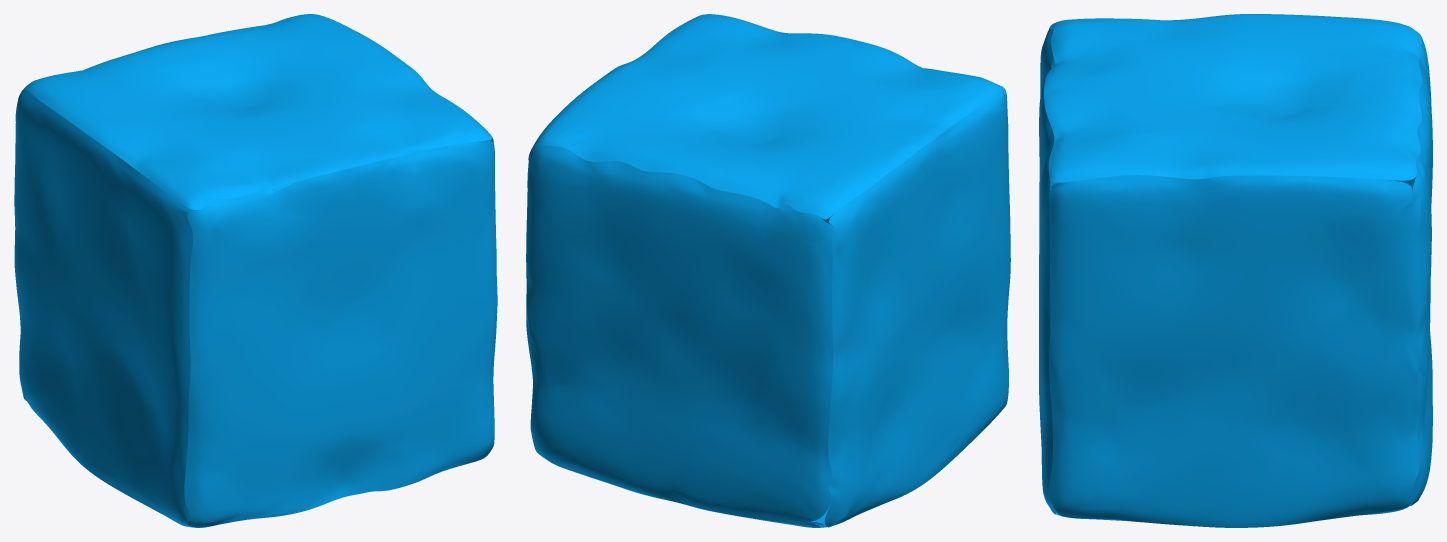
Rendered from icecube.fbx.
The picture shows the model from 3 angles, left to right: view 1: azimuth 30°, elevation 25°; view 2: azimuth 150°, elevation 25°; view 3: azimuth 270°, elevation 25°; orthographic projection. The views are drawn at different scales.
Visible parts, largest first — view 1: icecube; view 2: icecube; view 3: icecube.
Part boxes in pixels (bbox=[...]): icecube: bbox=[14, 14, 497, 527]; icecube: bbox=[526, 14, 1010, 527]; icecube: bbox=[1039, 14, 1432, 527].
Size of the model in its own units: 999 by 999 by 997.
